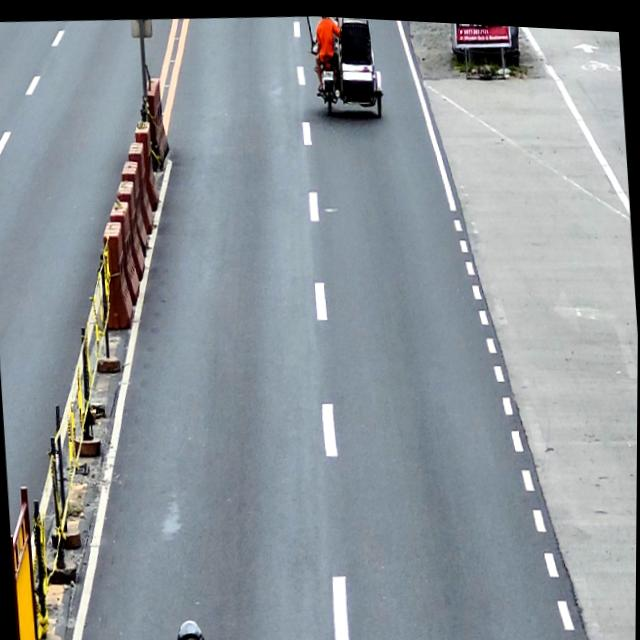License-Plate: (323, 66, 334, 78)
Tricycle: (309, 13, 384, 119)
